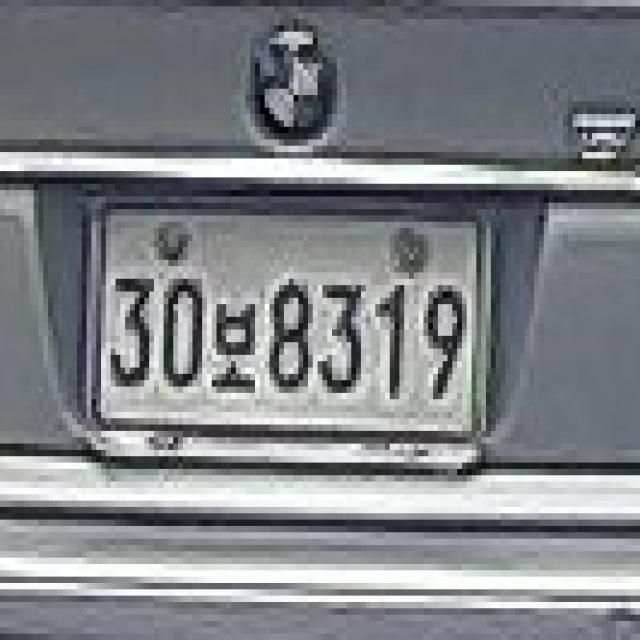0: (154, 279, 207, 386)
1: (375, 279, 414, 405)
3: (318, 279, 370, 405), (106, 273, 159, 387)
8: (264, 279, 312, 393)
9: (423, 279, 467, 405)
bo: (207, 298, 260, 393)
license_plate: (72, 190, 496, 450)
